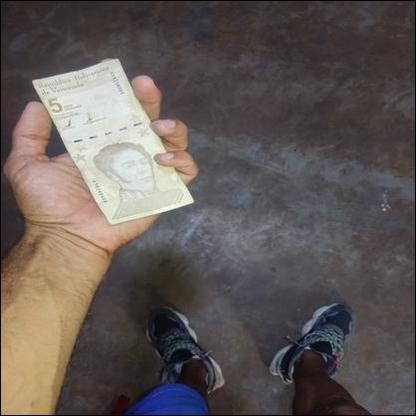five-front-vef: (31, 58, 193, 224)
